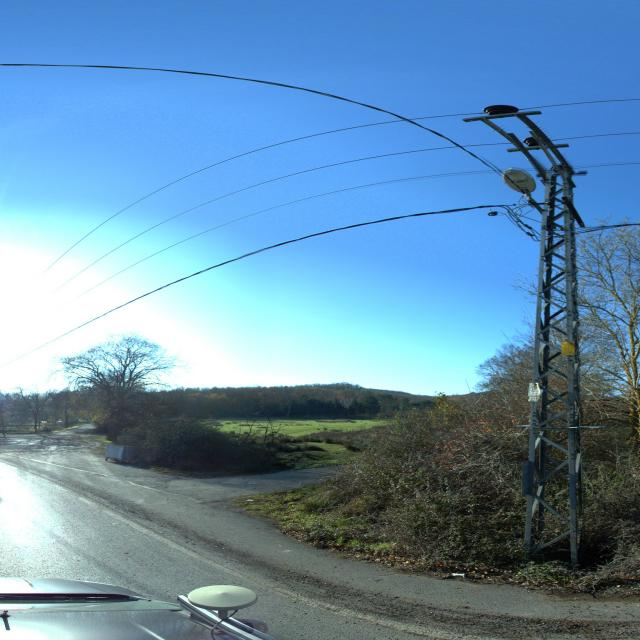Utility Pole Information Plate: (561, 342, 576, 356), (528, 383, 540, 397)
